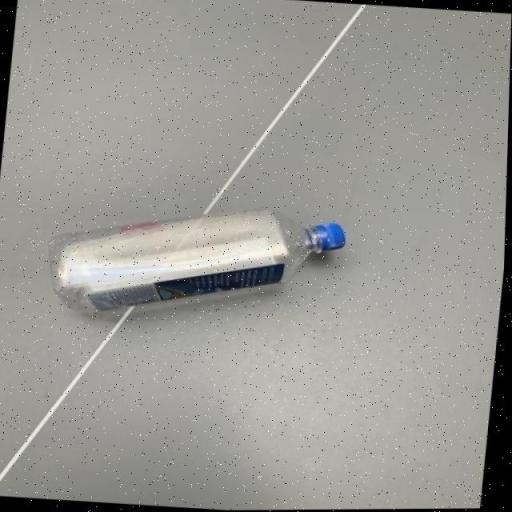plastic: (42, 191, 350, 337)
